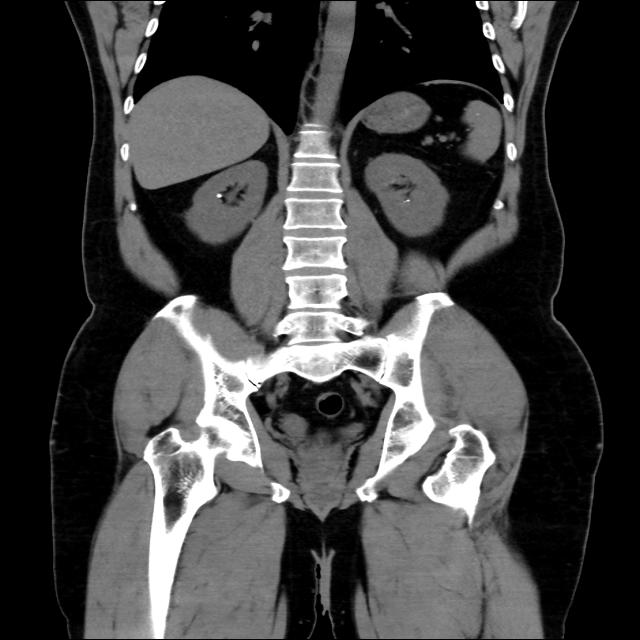kidneystone: (216, 192, 223, 199)
